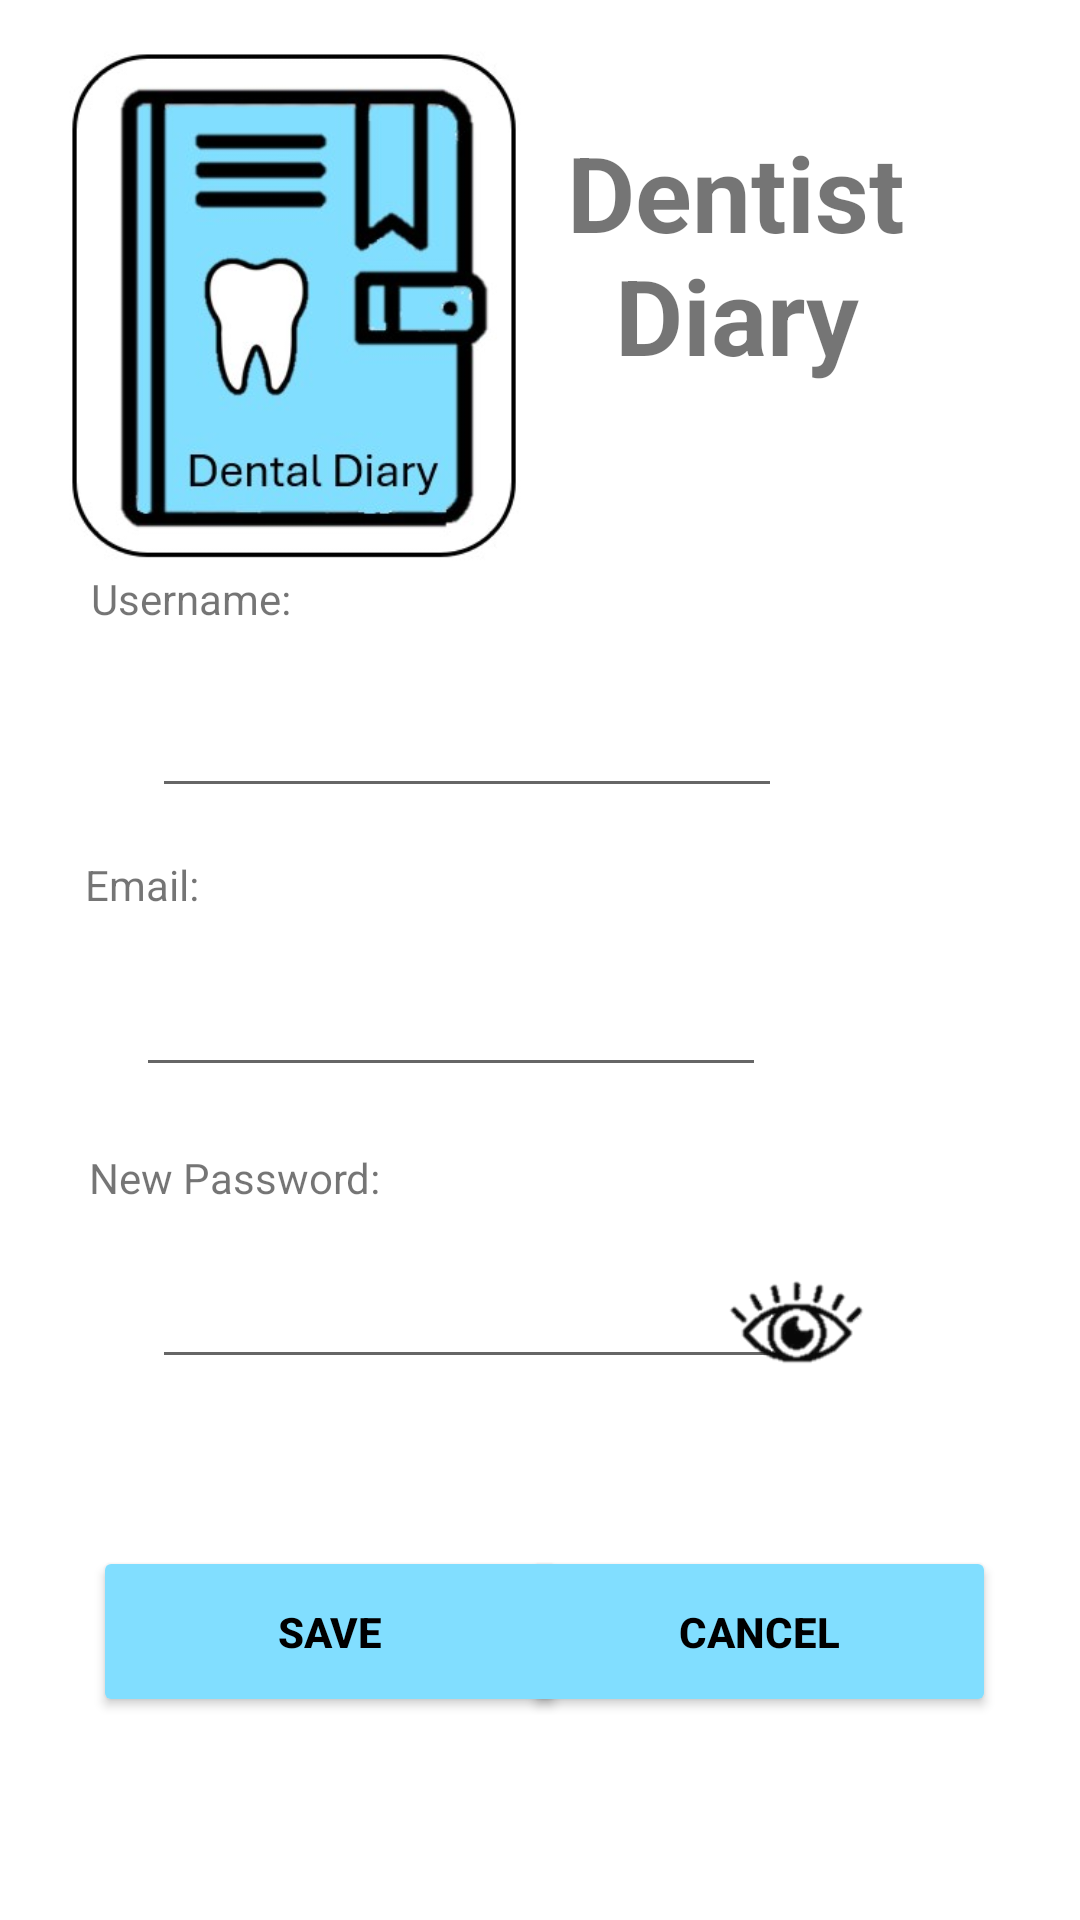

Screen size 1080 x 1920. Icon name, then its center in pixels as [x,y]:
View Password: [788,1322]
